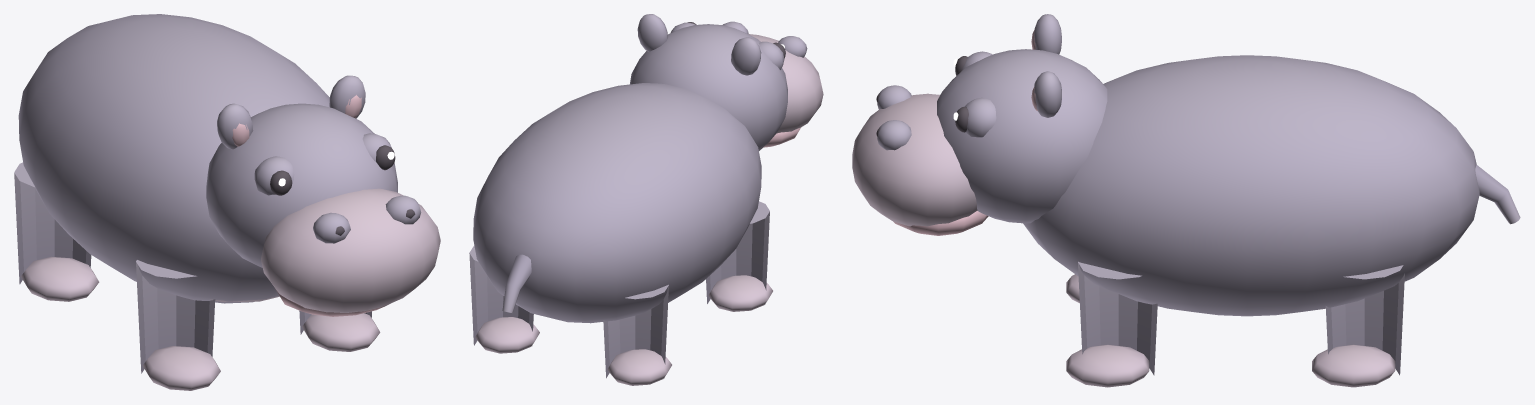
The model's file is anime_hippo.glb.
3 views of the same model, side by side, from view 1: azimuth 30°, elevation 25°; view 2: azimuth 150°, elevation 25°; view 3: azimuth 270°, elevation 25° (orthographic). The views are drawn at different scales.
Visible parts, largest first — view 1: anime_hippo; view 2: anime_hippo; view 3: anime_hippo.
Boxes of the visible parts, left/top/right/bottom form: anime_hippo: left=14, top=14, right=440, bottom=390; anime_hippo: left=469, top=14, right=823, bottom=385; anime_hippo: left=852, top=14, right=1520, bottom=387.
Bounding box in the file's own units: 1.12 × 1.2 × 2.45.
